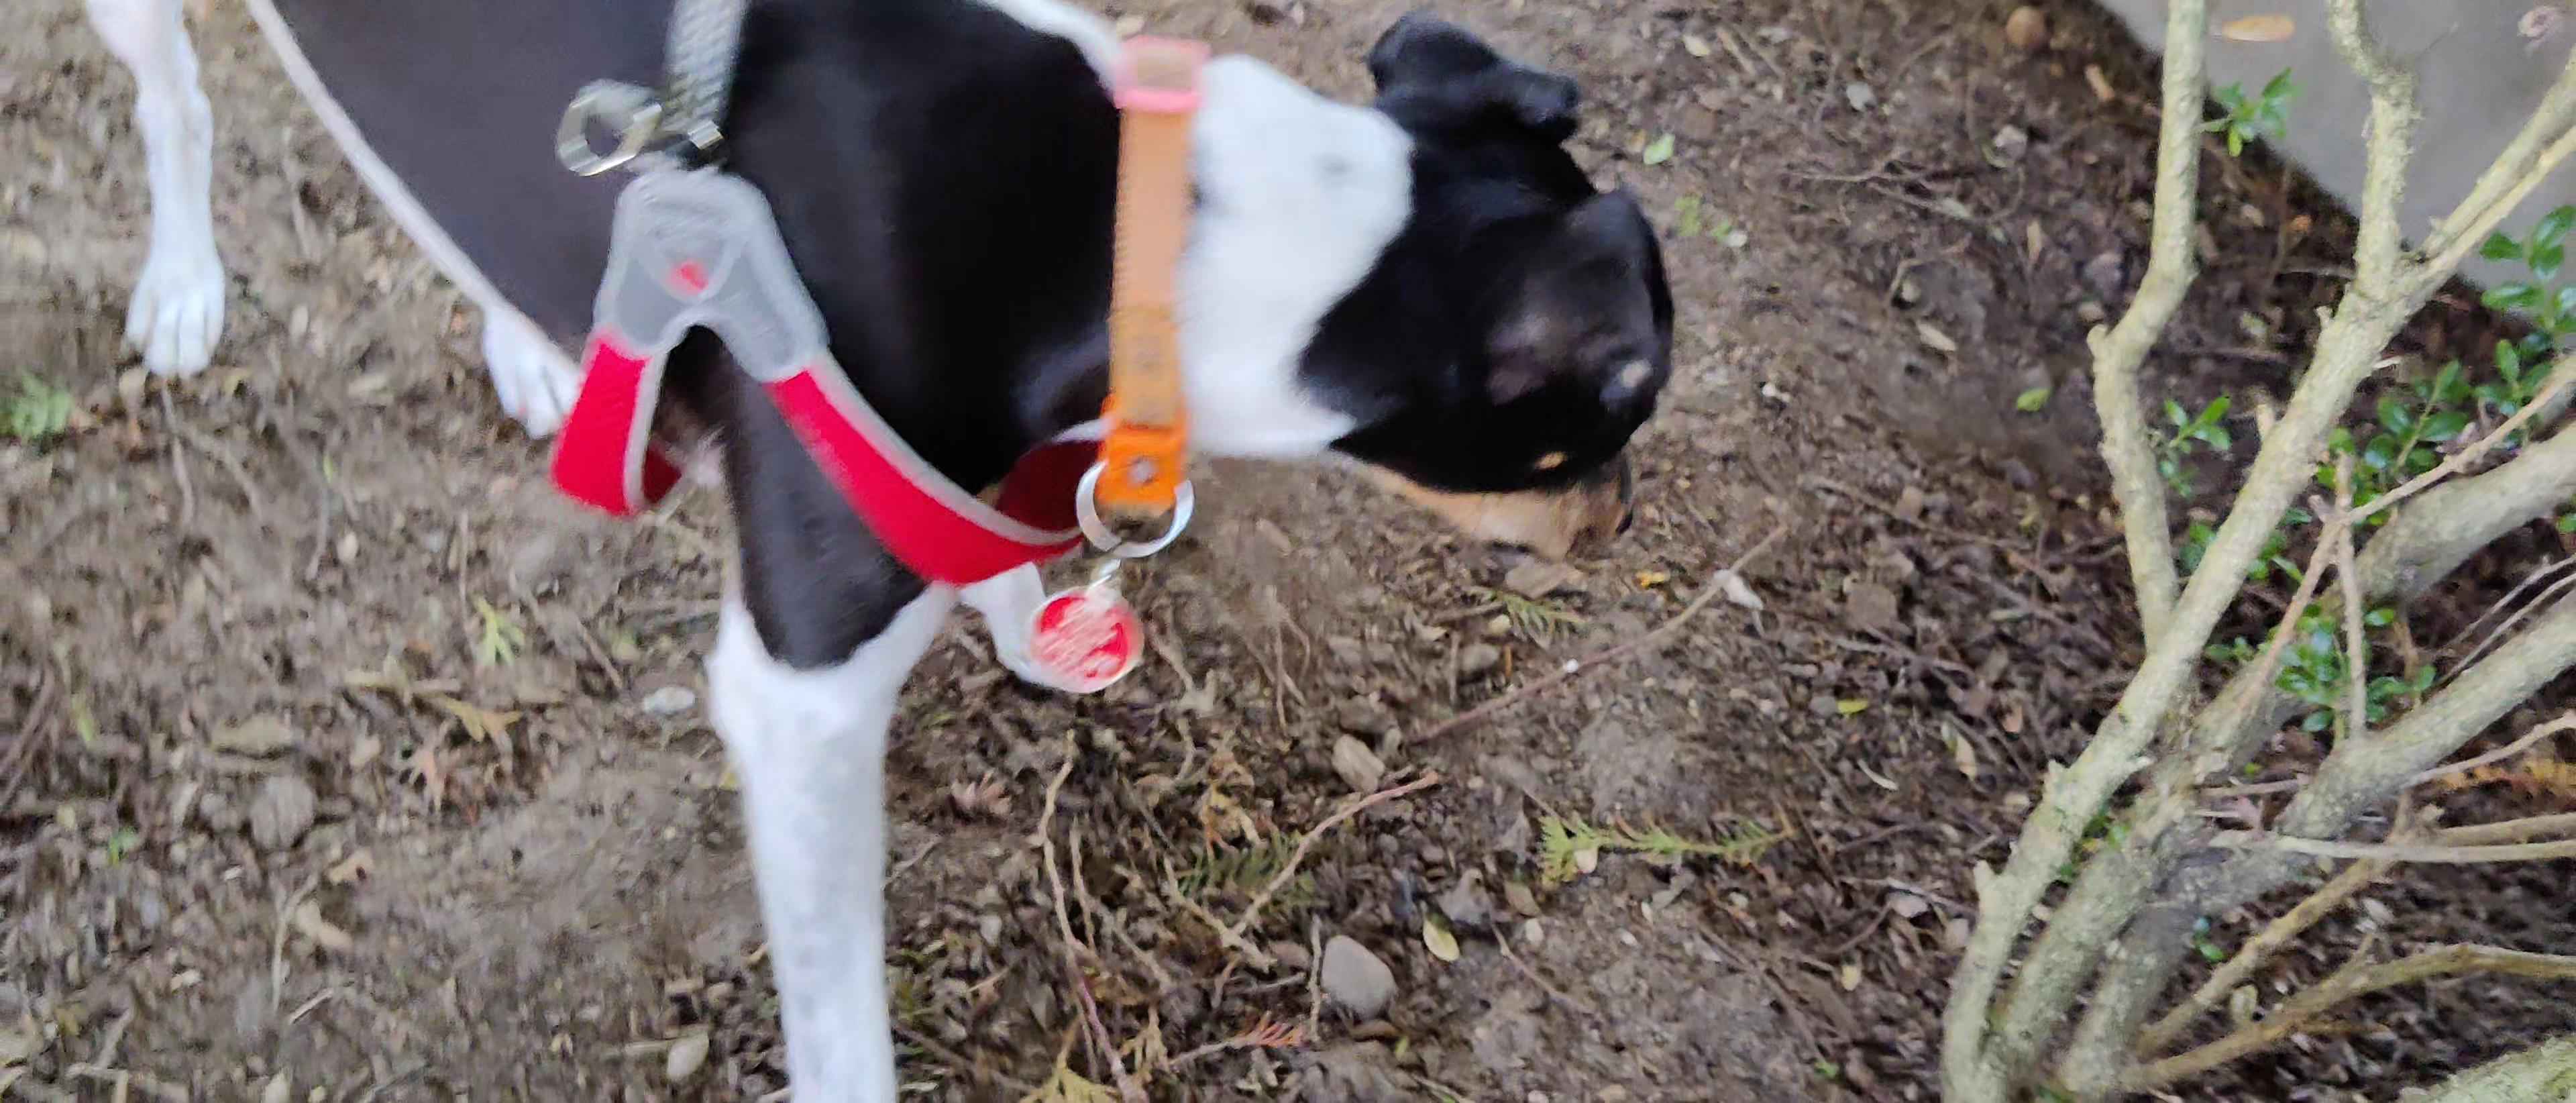Dog: (54, 0, 1699, 1103)
